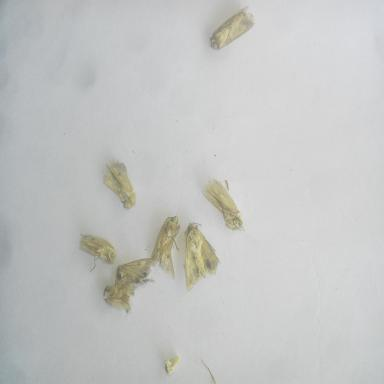abw: (181, 219, 223, 294), (200, 175, 249, 239), (144, 208, 185, 282), (207, 3, 260, 54), (96, 157, 140, 213), (74, 228, 118, 277), (110, 250, 158, 292), (97, 280, 138, 322)
